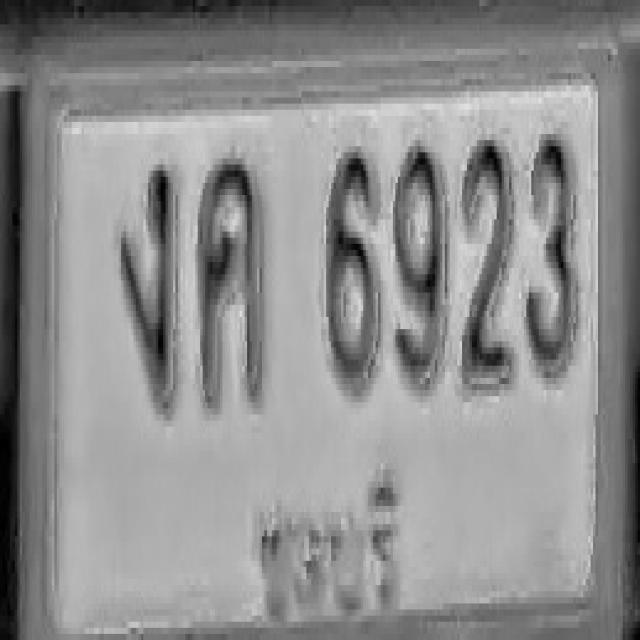13KhorKhwai: (197, 152, 266, 408)
16NgorNgu: (118, 158, 174, 408)
2: (461, 134, 513, 384)
3: (525, 128, 577, 378)
6: (325, 143, 379, 393)
9: (393, 137, 445, 387)
